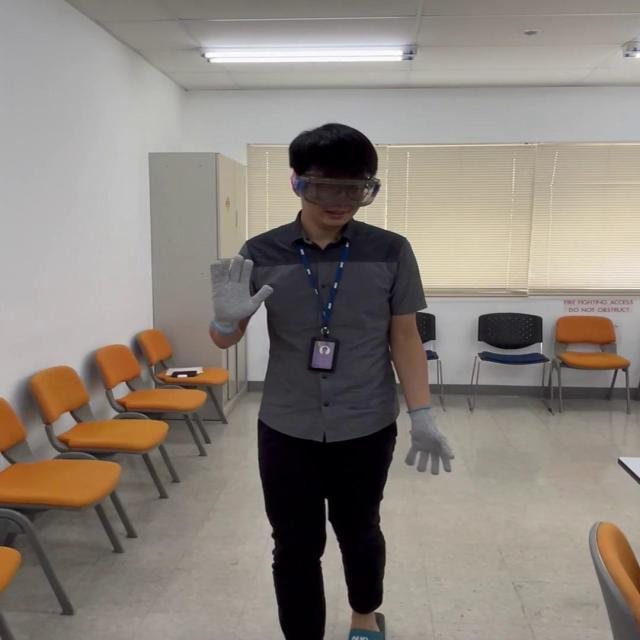gloved_hand: (210, 252, 280, 334), (406, 405, 453, 471)
